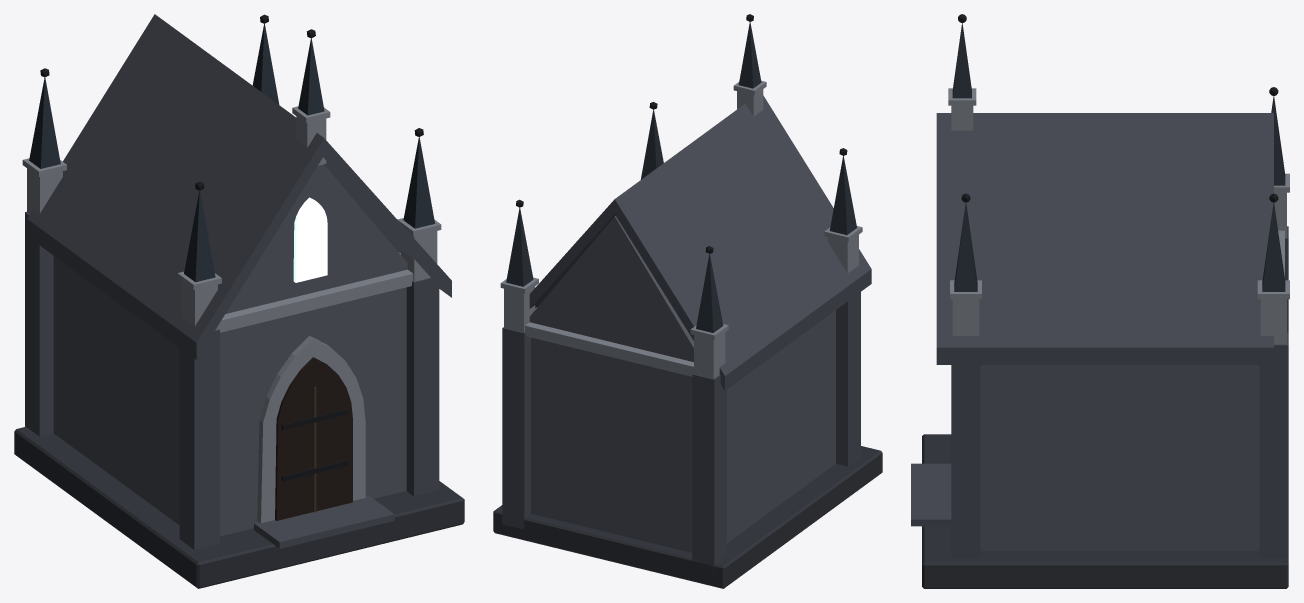
The model's file is gothic_crypt.glb.
The picture shows the model from 3 angles, left to right: view 1: azimuth 30°, elevation 25°; view 2: azimuth 150°, elevation 25°; view 3: azimuth 270°, elevation 25°; orthographic projection. The views are drawn at different scales.
Parts seen in each view (by area): view 1: gothic_crypt; view 2: gothic_crypt; view 3: gothic_crypt.
Boxes of the visible parts, x1=… form: gothic_crypt: x1=14, y1=14, x2=464, y2=588; gothic_crypt: x1=493, y1=14, x2=882, y2=588; gothic_crypt: x1=911, y1=14, x2=1289, y2=588.
Size of the model in its own units: 4.2 by 7.69 by 5.17.
